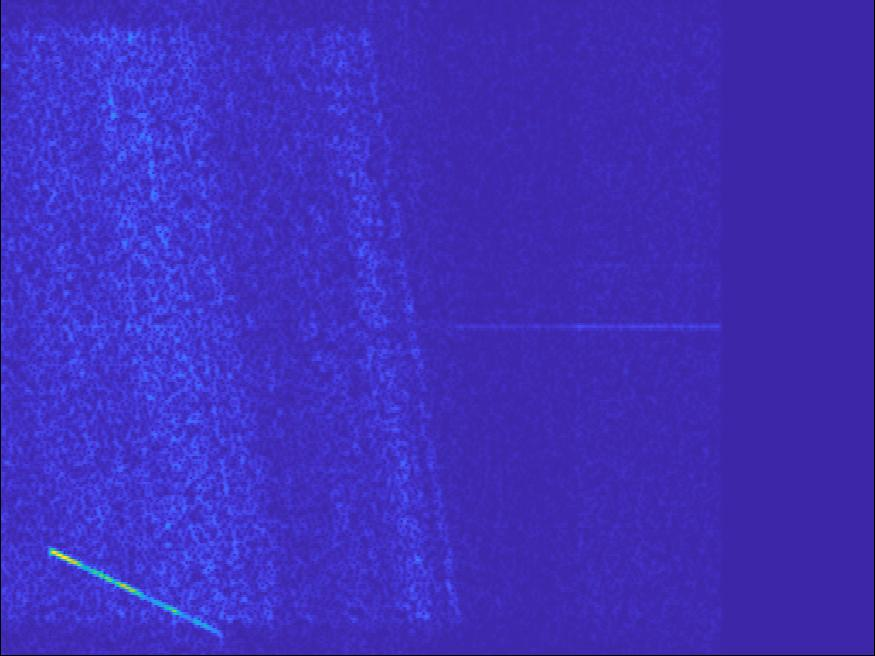Interference: (652, 1, 875, 181), (643, 374, 845, 524), (423, 36, 561, 90), (781, 304, 875, 348)
